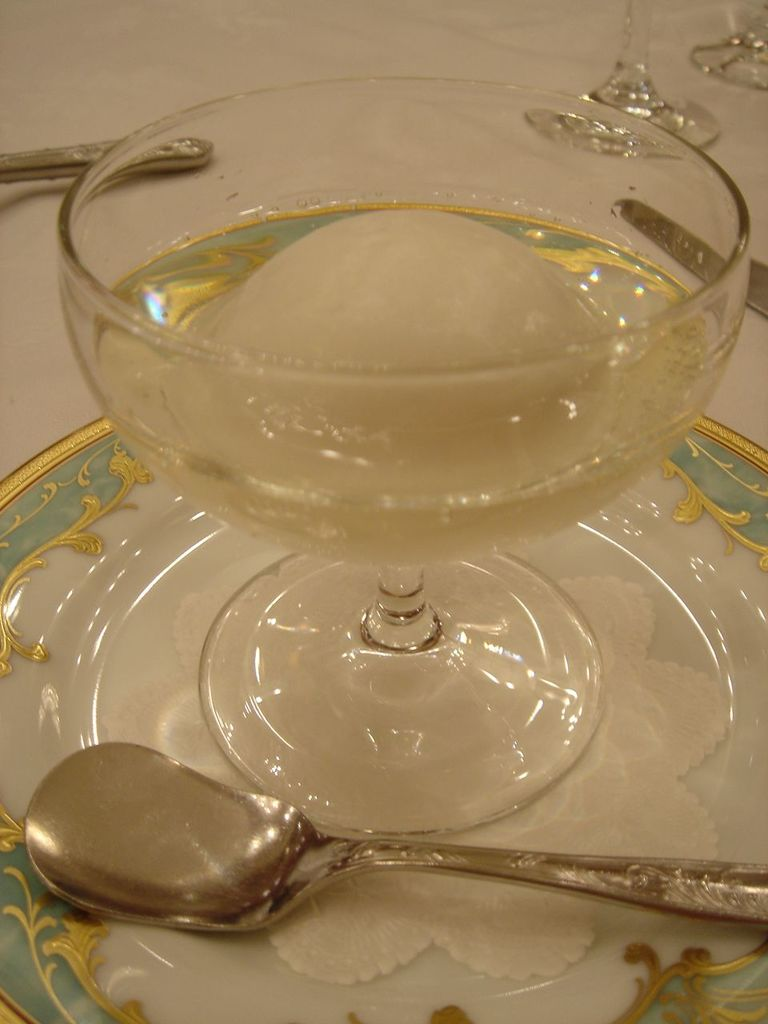plate: (0, 411, 767, 1023)
